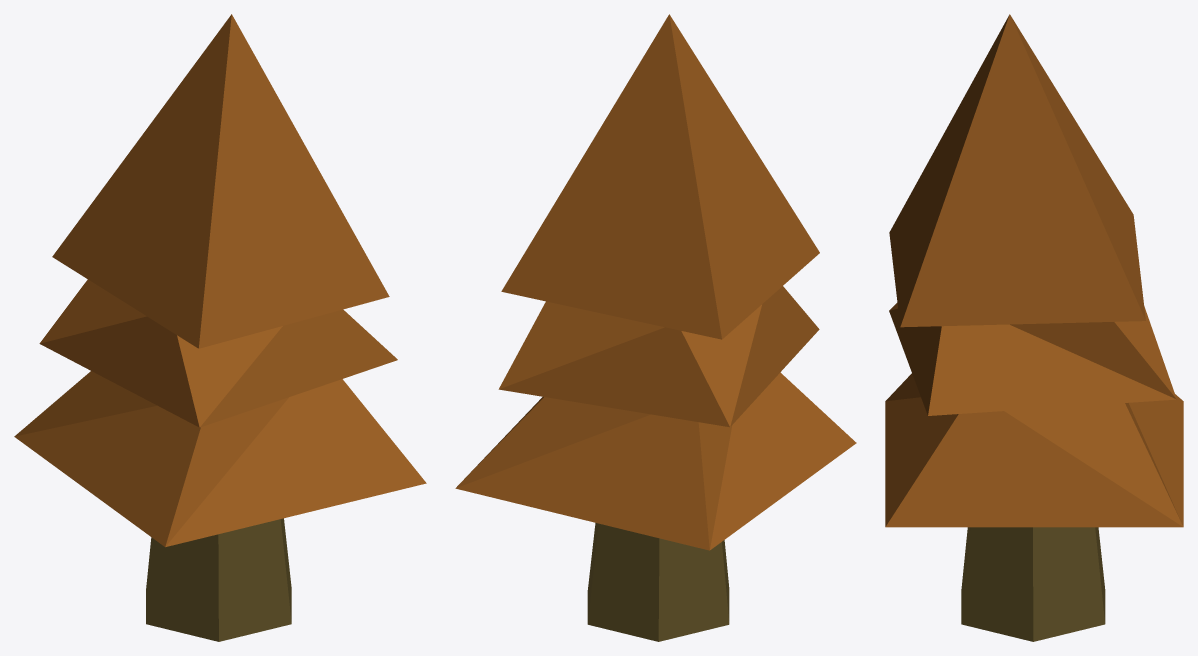
File: Tree_Pine_Autumn_01.fbx
3 views of the same model, side by side, from view 1: azimuth 30°, elevation 25°; view 2: azimuth 150°, elevation 25°; view 3: azimuth 270°, elevation 25° (orthographic). The views are drawn at different scales.
Visible parts, largest first — view 1: Tree_Pine_Autumn_01; view 2: Tree_Pine_Autumn_01; view 3: Tree_Pine_Autumn_01.
Boxes of the visible parts, x1,y1,x2,y2 form: Tree_Pine_Autumn_01: (14,14,426,641); Tree_Pine_Autumn_01: (455,14,856,641); Tree_Pine_Autumn_01: (885,14,1183,641).
Bounding box in the file's own units: 57.44 × 126 × 57.44.
